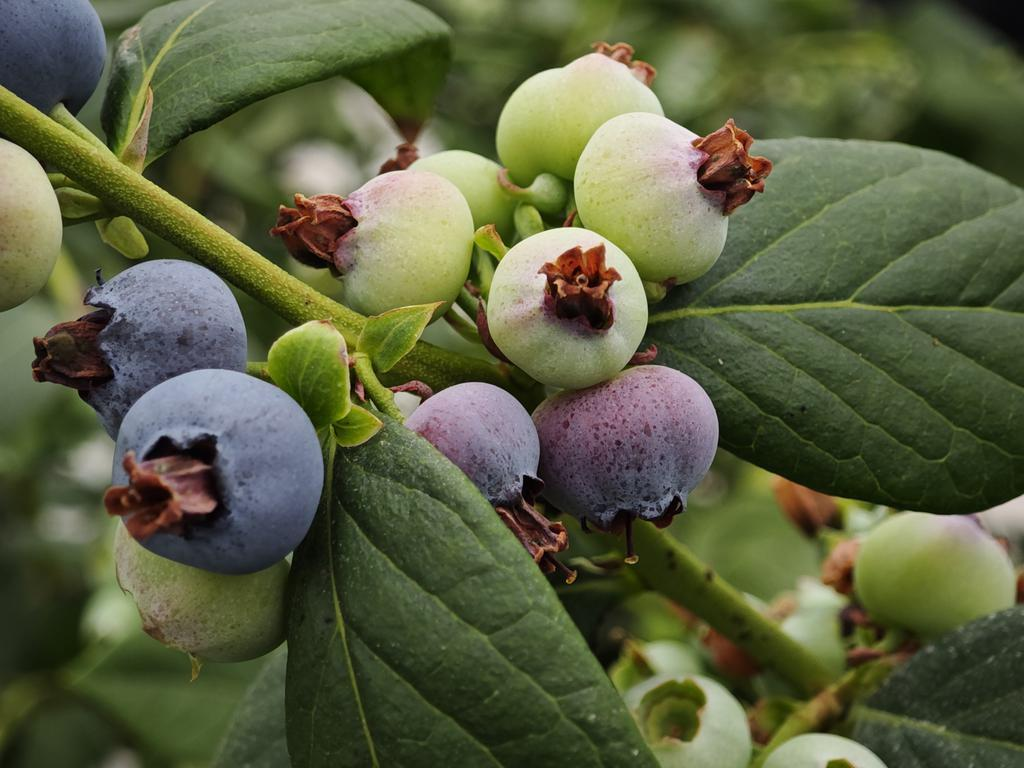RipeBlueBerry: (104, 364, 327, 576)
UnripeBlueBerry: (579, 110, 746, 279), (489, 227, 657, 389)
